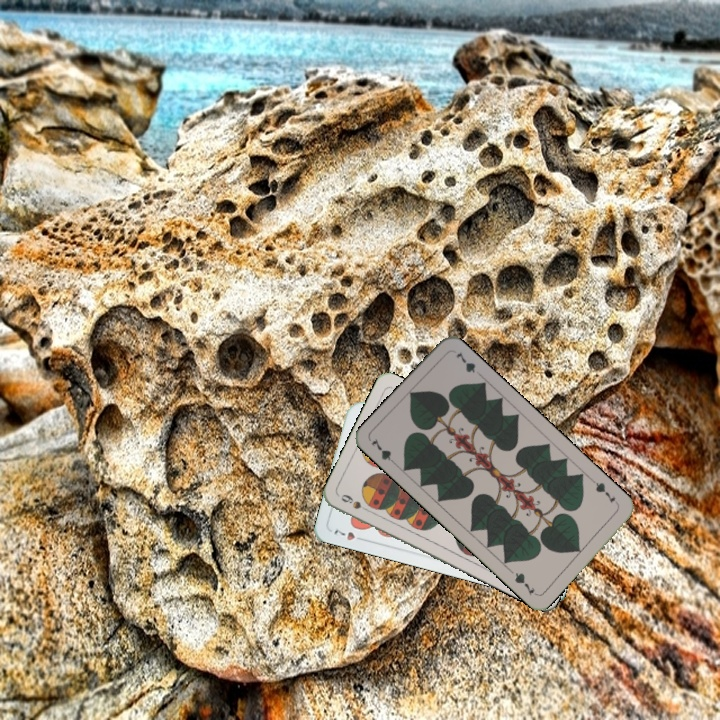G7: (367, 434, 400, 468), (588, 476, 621, 508)
H7: (330, 525, 368, 544)
S9: (337, 490, 374, 515)
